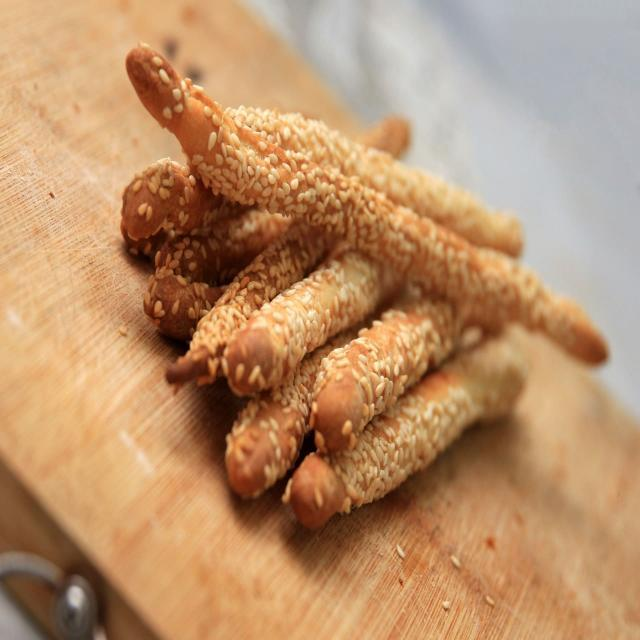Grissini: (115, 44, 612, 528)
